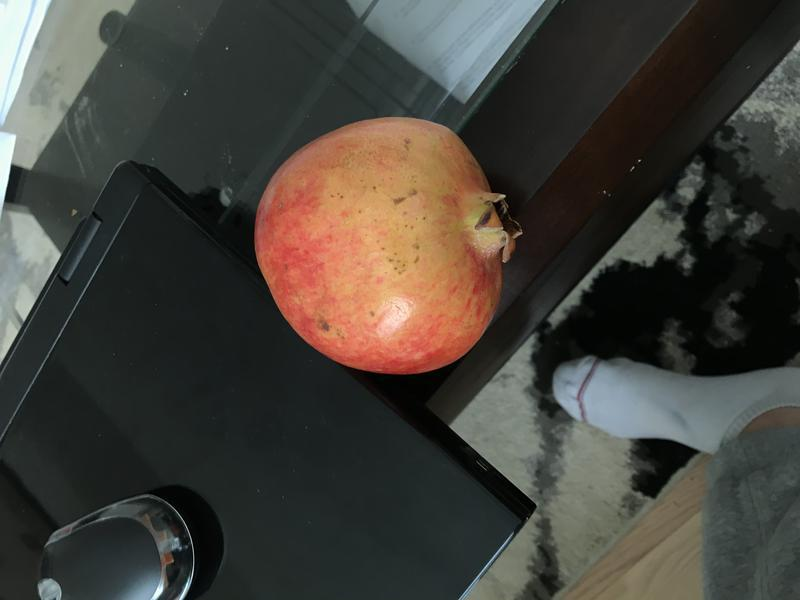pomegranate: (243, 110, 537, 382)
